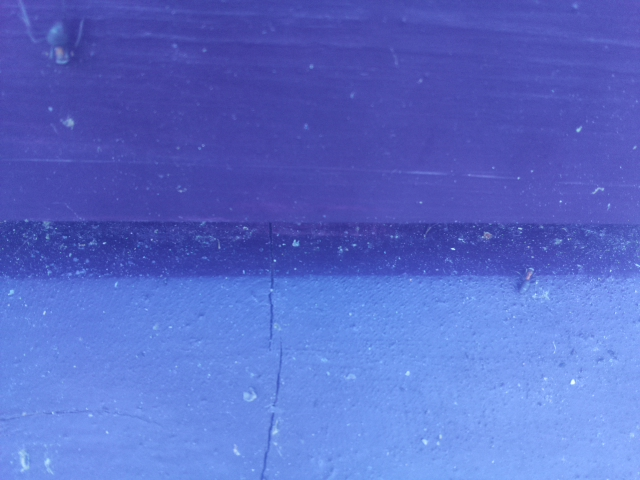ant: (44, 17, 73, 71), (513, 260, 539, 301)
